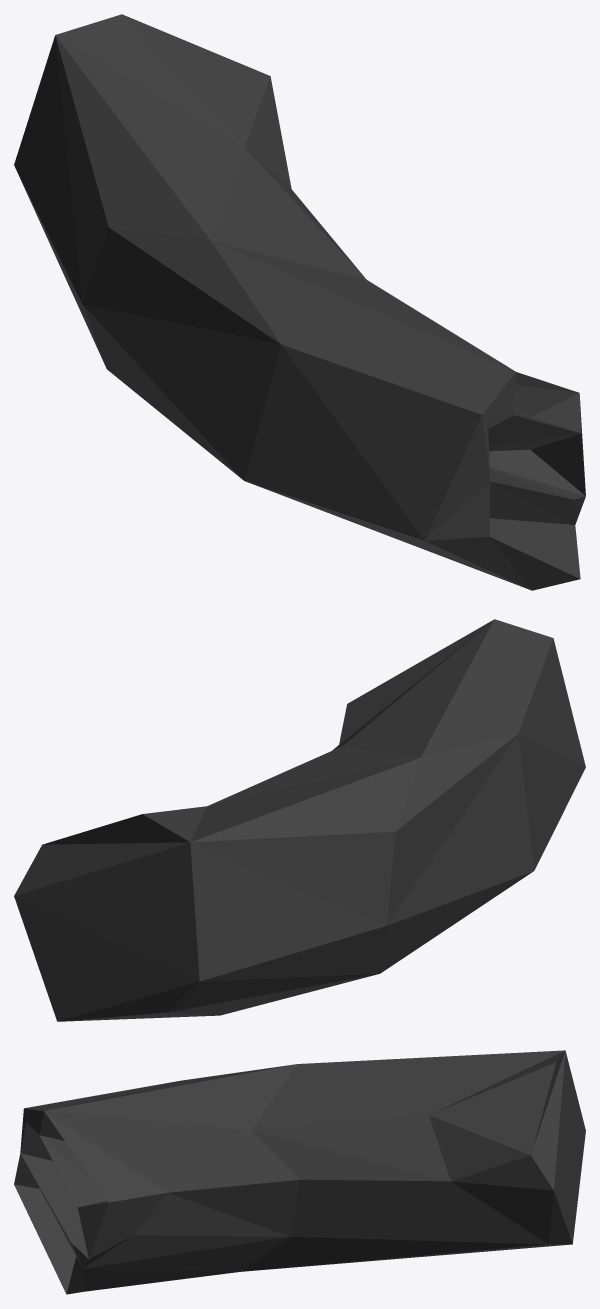
3 renders of one model, top to bottom at view 1: azimuth 30°, elevation 25°; view 2: azimuth 150°, elevation 25°; view 3: azimuth 270°, elevation 25°, orthographic. The views are drawn at different scales.
Visible parts, largest first — view 1: world; view 2: world; view 3: world.
Boxes of the visible parts, x1=… form: world: x1=14, y1=14, x2=585, y2=590; world: x1=14, y1=619, x2=585, y2=1021; world: x1=14, y1=1050, x2=585, y2=1294.
Size of the model in its own units: 0.1579 by 0.1655 by 0.4017.
Materials: 1 (1 with a texture image).
